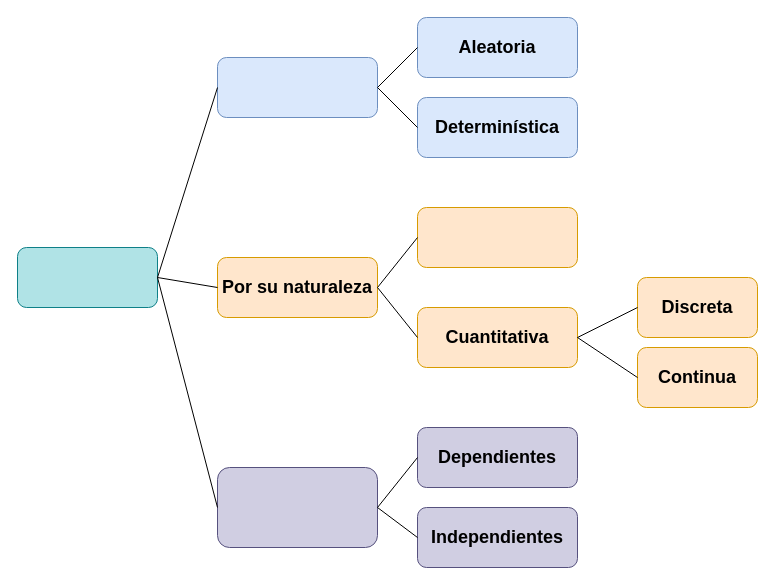
This 775x585 diagram has some shape labels left out. Here are the shapes that lost their labels. From the top down, the centre of each, then its label:
At [297,87]: "Por el origen".
At [497,237]: "Cualitativa".
At [87,277]: "Variables".
At [297,507]: "Por su relación con otras variables".
